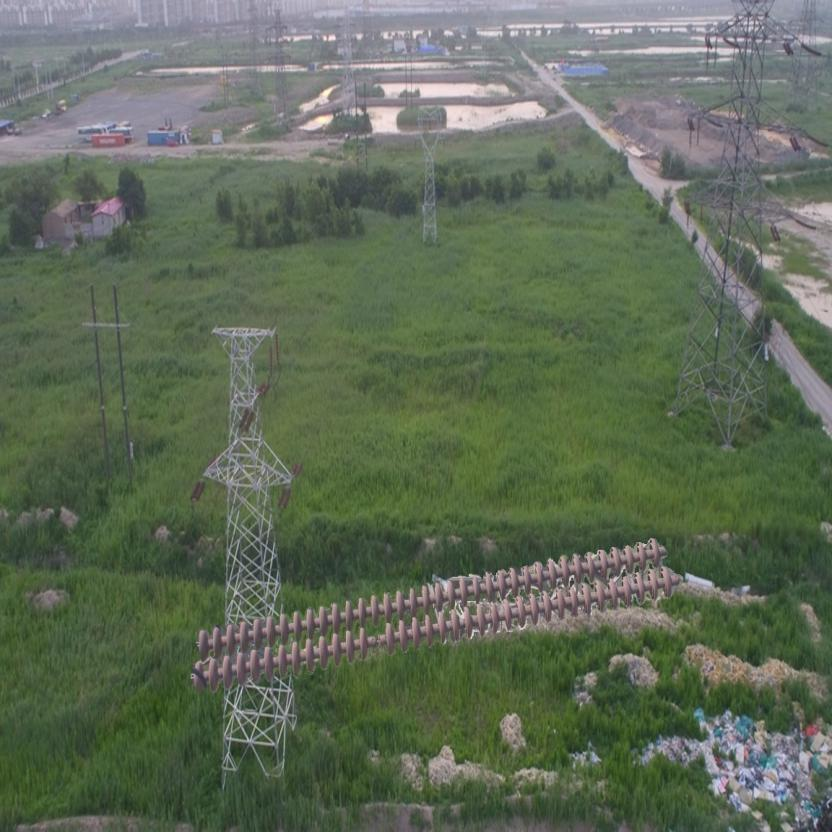defect: (356, 621, 399, 661)
